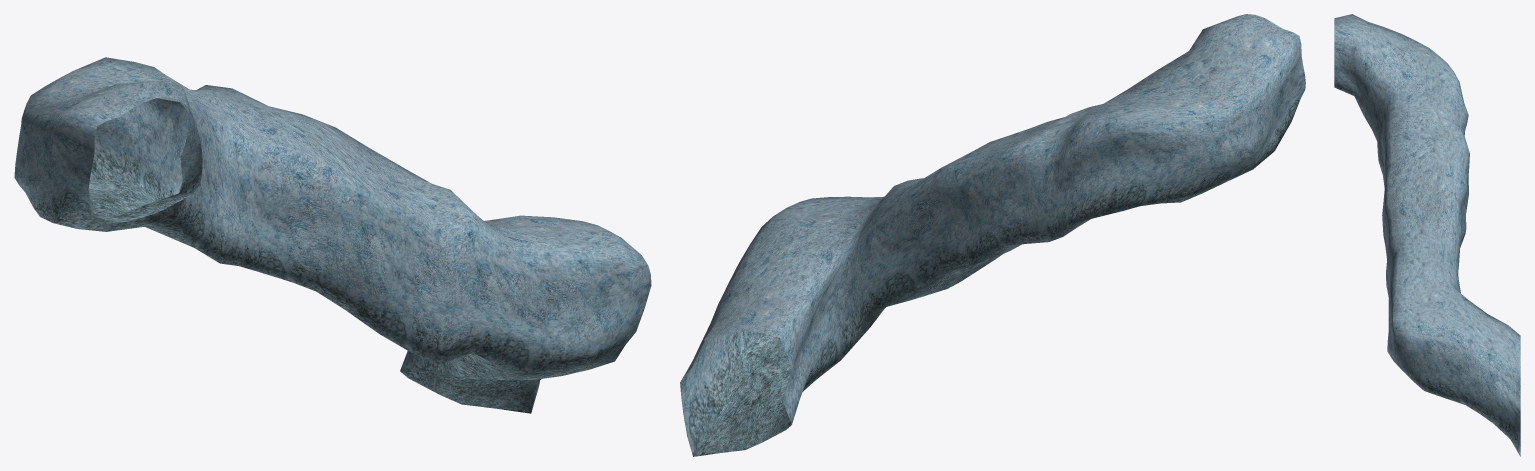
The model's file is thm_all_cave_flatland_s02_ice_r1_mesh_r1.fbx.
3 renders of one model, left to right at view 1: azimuth 30°, elevation 25°; view 2: azimuth 150°, elevation 25°; view 3: azimuth 270°, elevation 25°, orthographic. The views are drawn at different scales.
Parts seen in each view (by area): view 1: mesh_node; view 2: mesh_node; view 3: mesh_node.
Part boxes in pixels (x1=…): mesh_node: x1=14, y1=57, x2=651, y2=413; mesh_node: x1=680, y1=14, x2=1305, y2=456; mesh_node: x1=1334, y1=14, x2=1520, y2=456.
Bounding box in the file's own units: 53.32 × 45.87 × 26.29.
